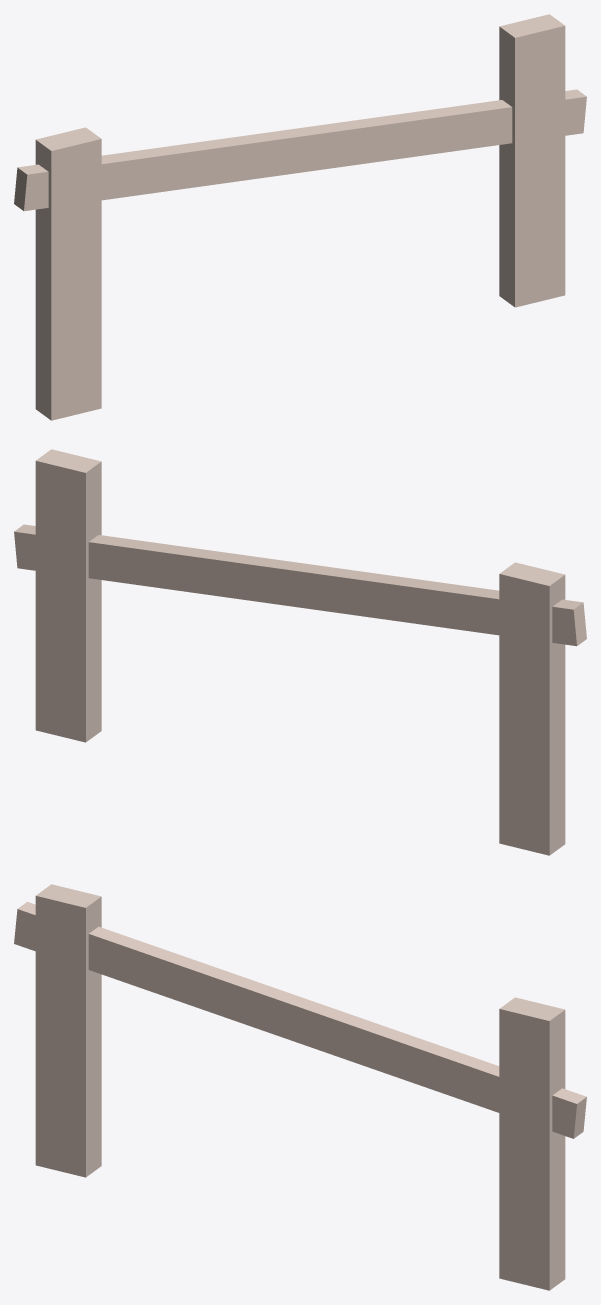
Rendered from fence_down.fbx.
3 views of the same model, one above another, from view 1: azimuth 30°, elevation 25°; view 2: azimuth 150°, elevation 25°; view 3: azimuth 330°, elevation 25° (orthographic).
Parts seen in each view (by area): view 1: pCube6; view 2: pCube6; view 3: pCube6.
Part boxes in pixels (x1,y1,x2,y2): pCube6: [14, 14, 586, 420]; pCube6: [14, 449, 586, 855]; pCube6: [14, 884, 586, 1290].
Size of the model in its own units: 291 by 133 by 14.12.
